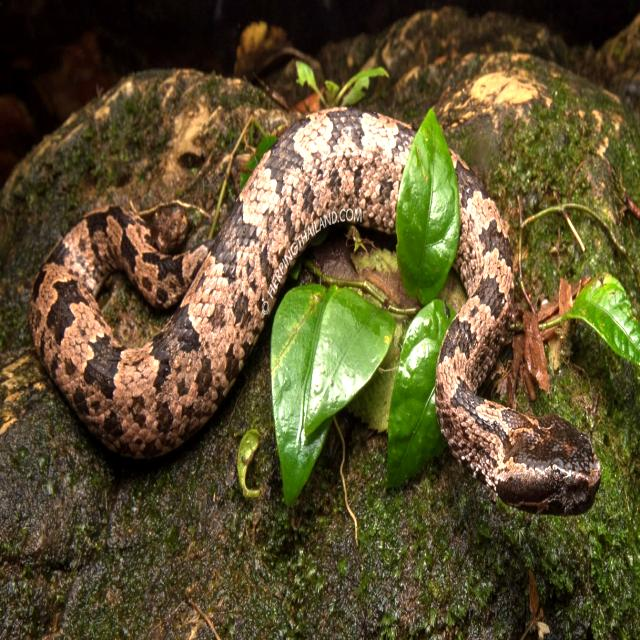Ovophis monticola: (29, 109, 415, 457)
snake: (29, 109, 415, 457)
